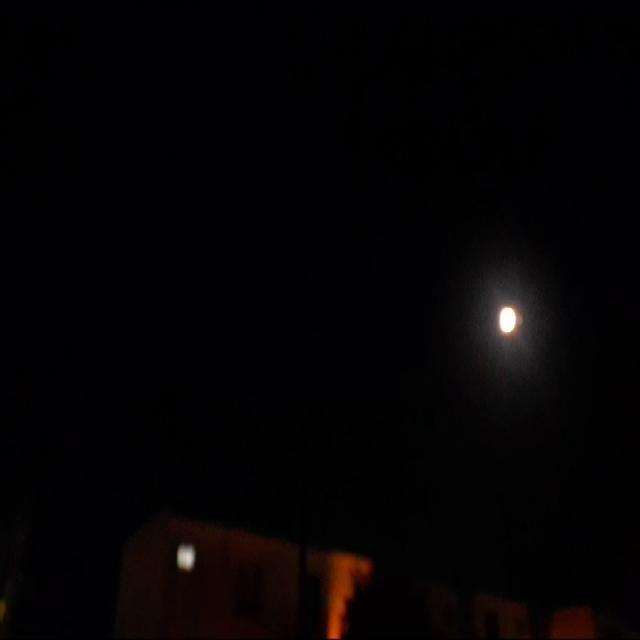moon: (495, 300, 518, 334)
